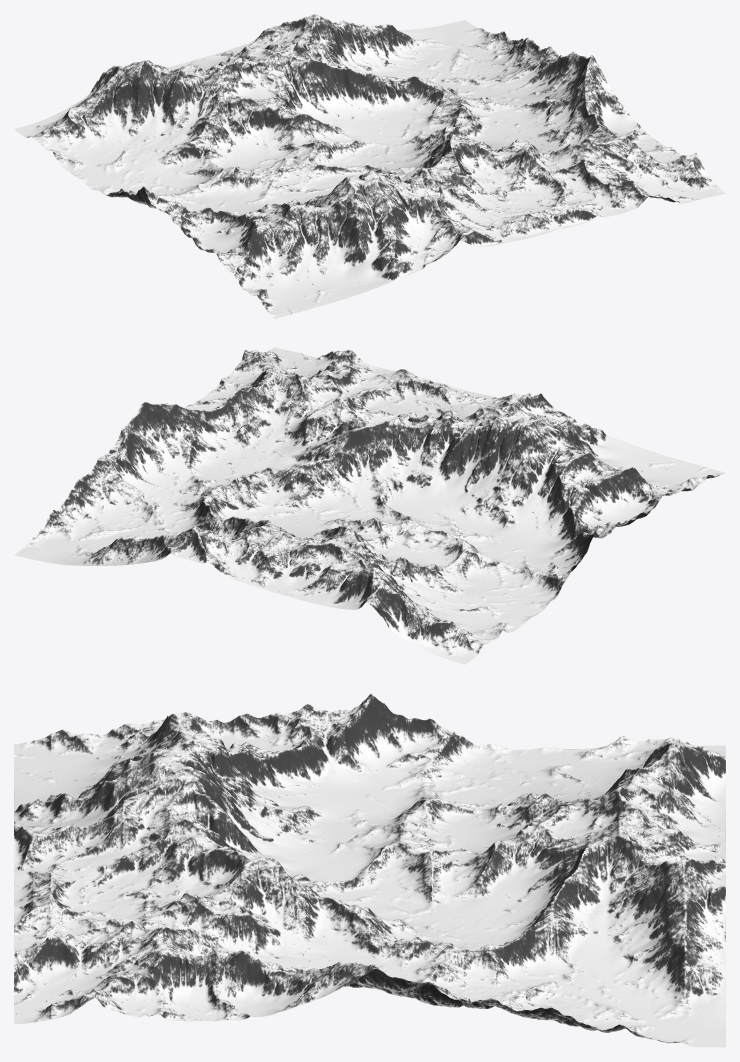
Rendered from terrain.glb.
3 renders of one model, top to bottom at view 1: azimuth 30°, elevation 25°; view 2: azimuth 150°, elevation 25°; view 3: azimuth 270°, elevation 25°, orthographic. The views are drawn at different scales.
Visible parts, largest first — view 1: Object_3, Object_2, Object_4; view 2: Object_2, Object_3, Object_4; view 3: Object_2, Object_3, Object_4.
Boxes of the visible parts, bbox=[...] form: Object_3: bbox=[91, 24, 725, 314]; Object_2: bbox=[14, 14, 655, 318]; Object_4: bbox=[30, 14, 535, 189]; Object_2: bbox=[14, 373, 725, 664]; Object_3: bbox=[21, 347, 710, 613]; Object_4: bbox=[27, 476, 540, 654]; Object_2: bbox=[14, 694, 725, 1047]; Object_3: bbox=[14, 694, 708, 1047]; Object_4: bbox=[503, 740, 713, 1045].
Size of the model in its own units: 1 by 0.1433 by 1.
1 material, 1 textured.
